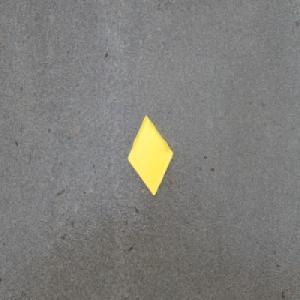PlasticPart: (127, 113, 174, 196)
